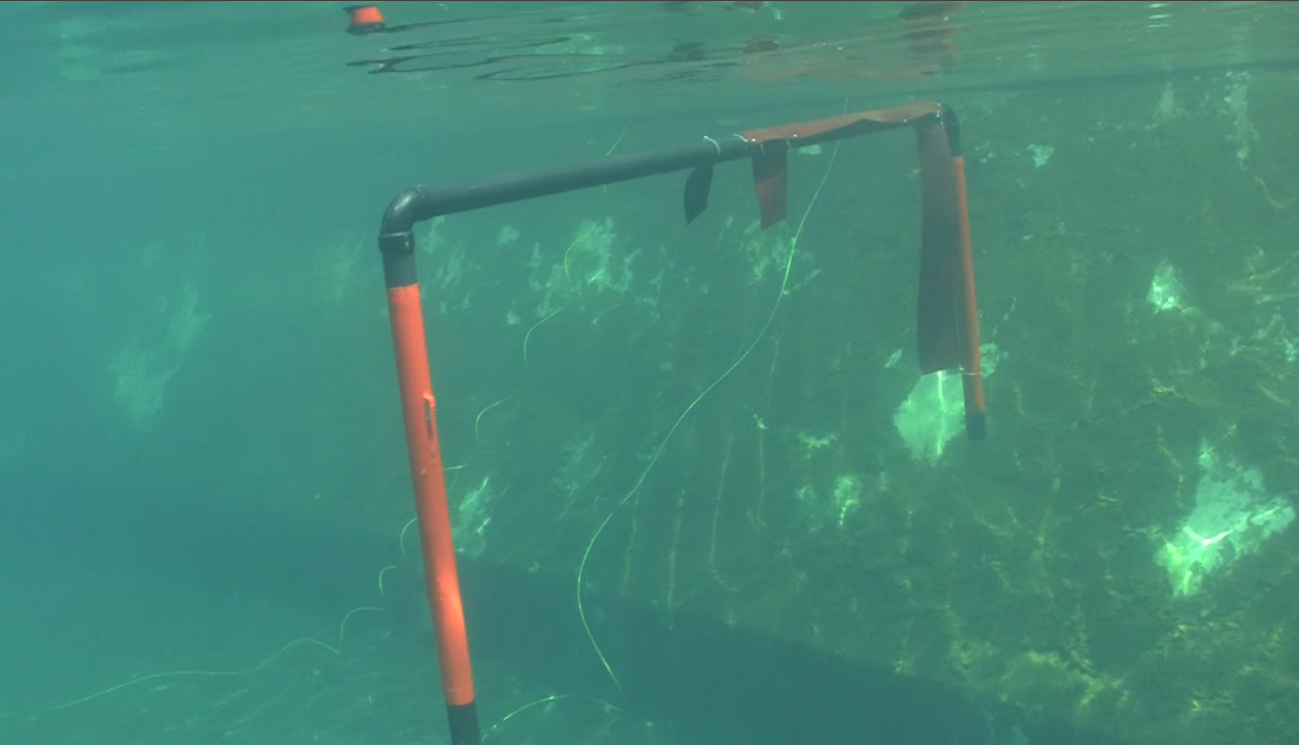gate: (359, 93, 997, 739)
